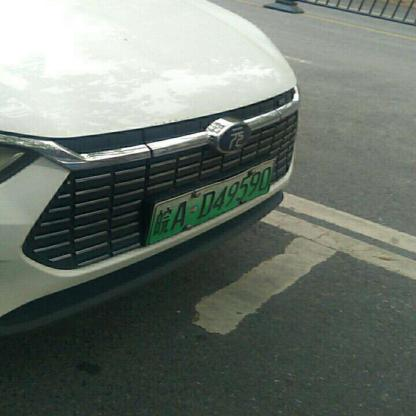lp: (148, 158, 275, 243)
